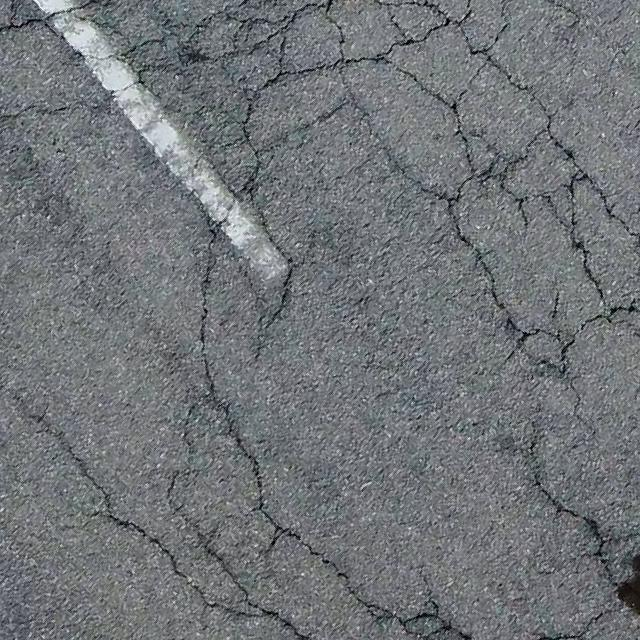GRIETA: (0, 383, 171, 557)
PIEL DE COCODRILO: (0, 0, 639, 639)
